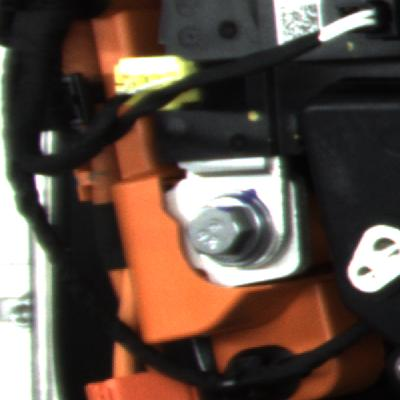nut_b: (178, 188, 294, 277)
